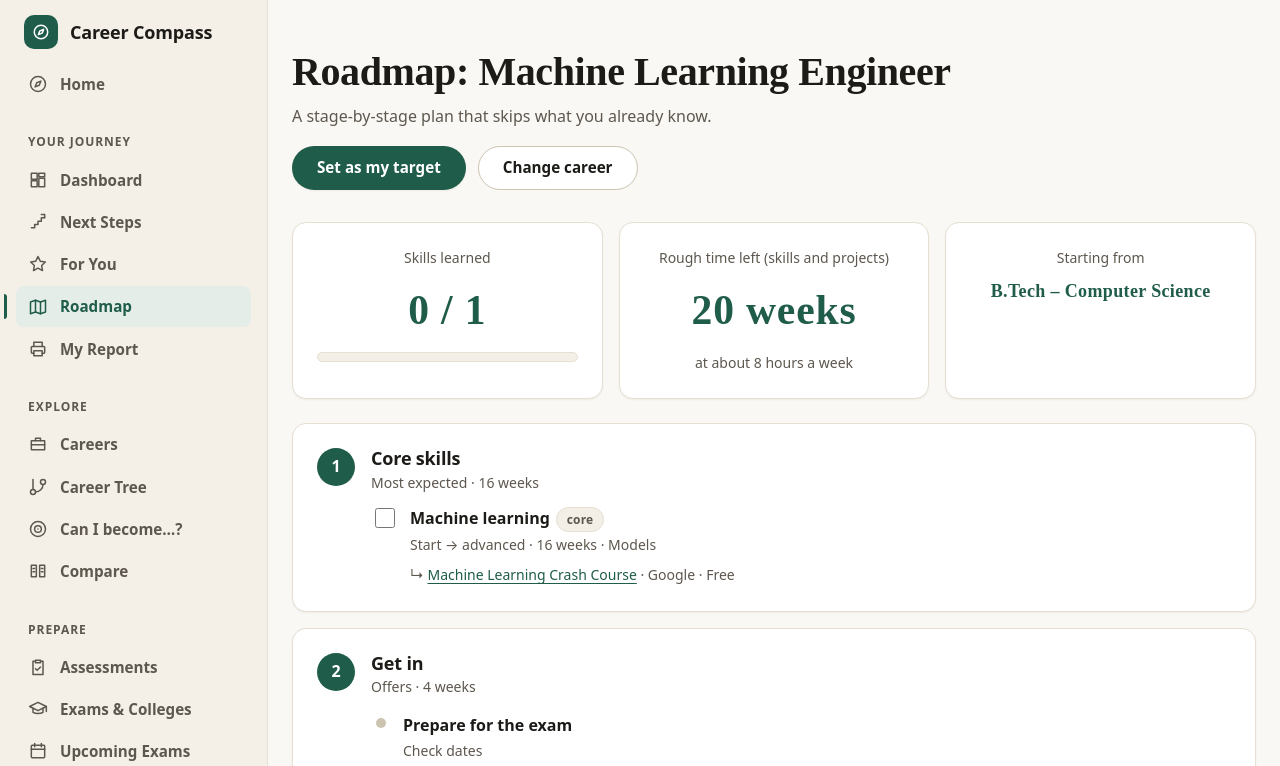
Roadmap page › shows stages, skipped skills and lets you tick skills and set the target
Expected: the heading "Roadmap: Machine Learning Engineer" is shown, [292, 48, 951, 96]
Expected: the heading "Core skills" is shown, [371, 446, 460, 470]
Click the checkbox labelled "Machine learning core": (385, 518) [375, 508, 395, 528]
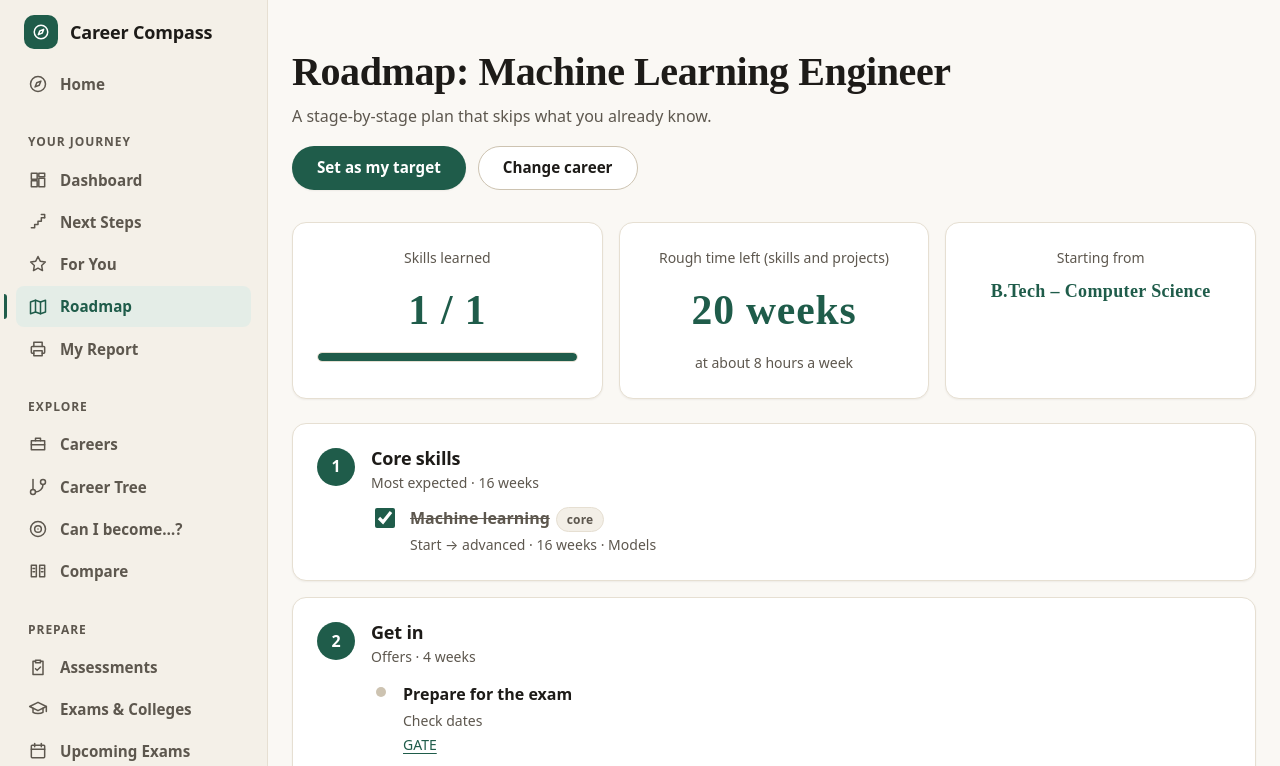
Now the checkbox labelled "Machine learning core" is checked, box [375, 508, 395, 528]
Now the text "1 / 1" is shown, box [408, 287, 486, 333]
Click the button "Set as my target": (379, 168) [292, 146, 466, 190]
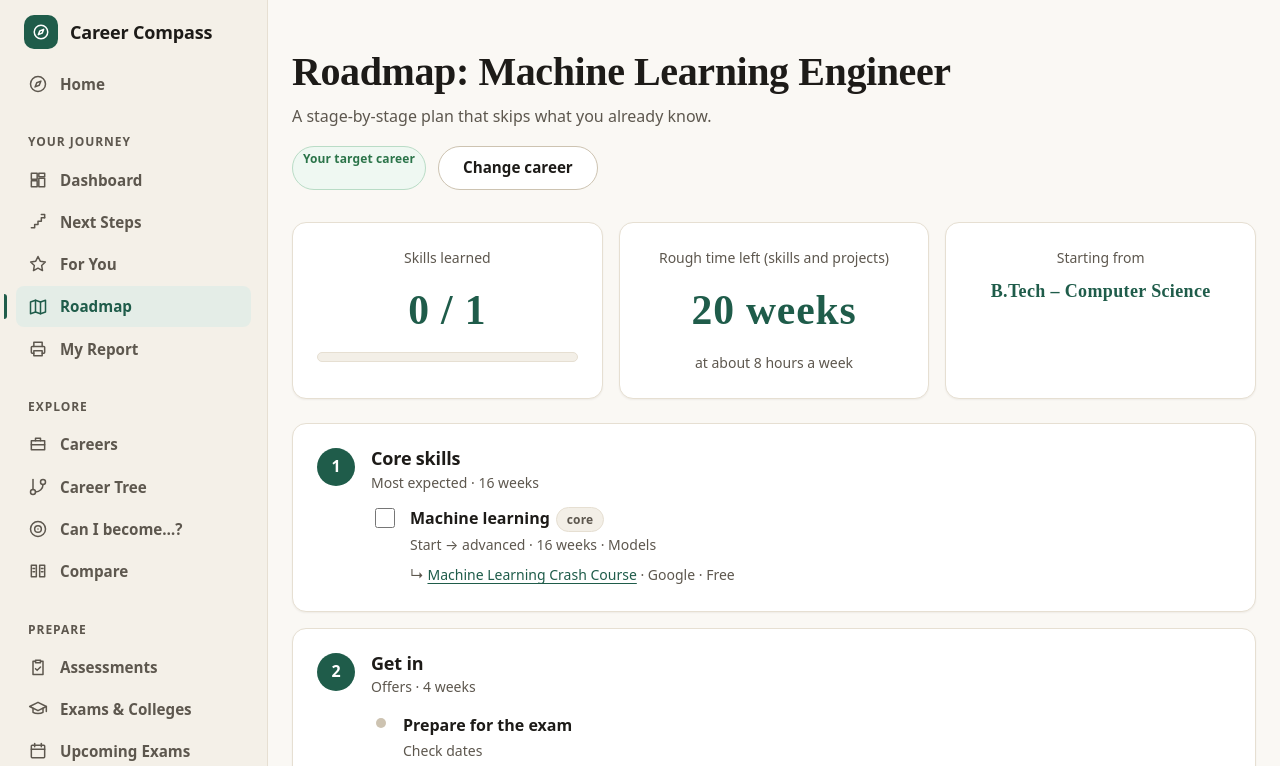
Now the text "Your target career" is shown, box [292, 146, 426, 190]
